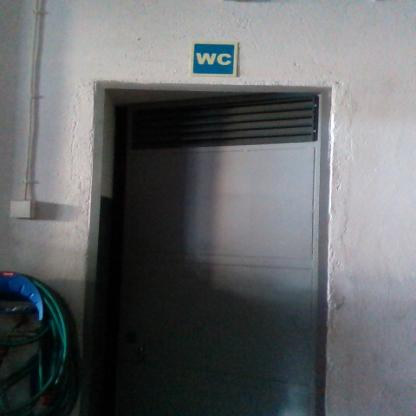open: (79, 63, 345, 414)
